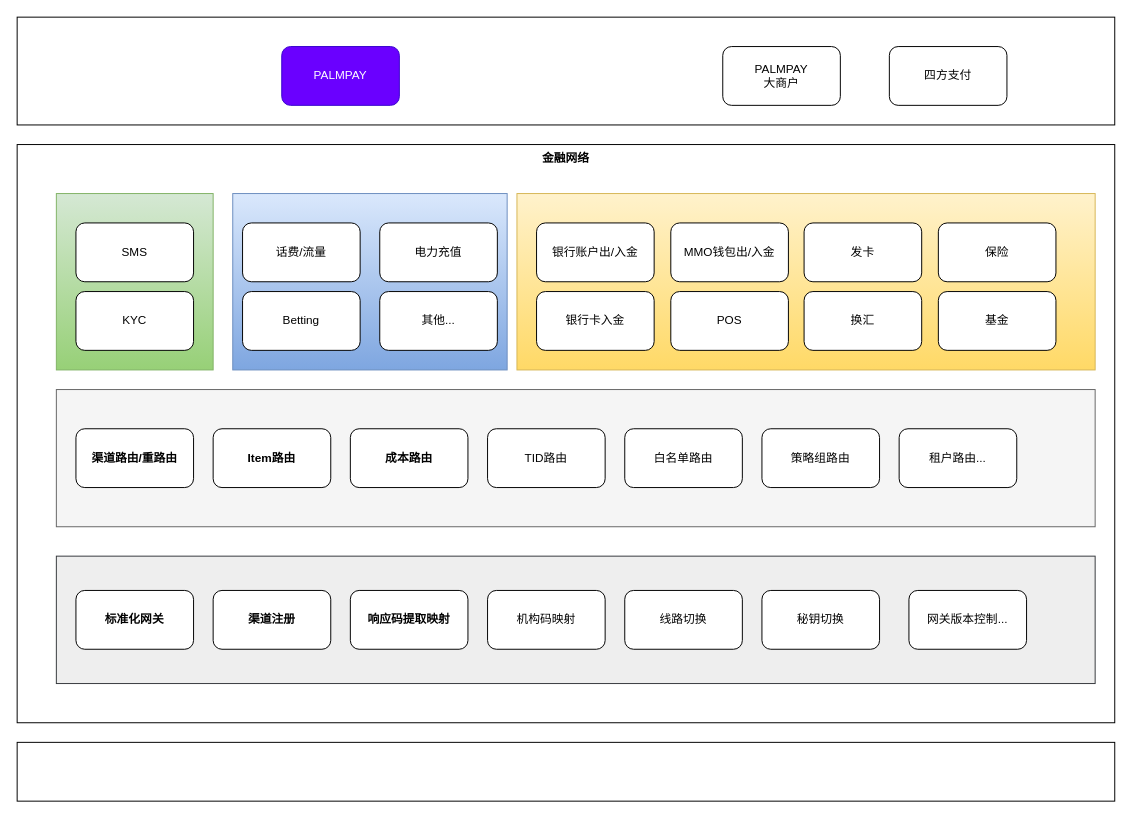
This 1132x818 diagram has some shape labels left out. Each missing label, with the box of its shape:
Biller: (232, 193, 507, 370)
使用方: (16, 16, 1115, 125)
基础能力: (55, 193, 213, 370)
外部渠道: (16, 741, 1115, 801)
渠道集成能力: (55, 555, 1095, 684)
资金: (516, 193, 1095, 370)
路由能力: (55, 389, 1095, 527)
